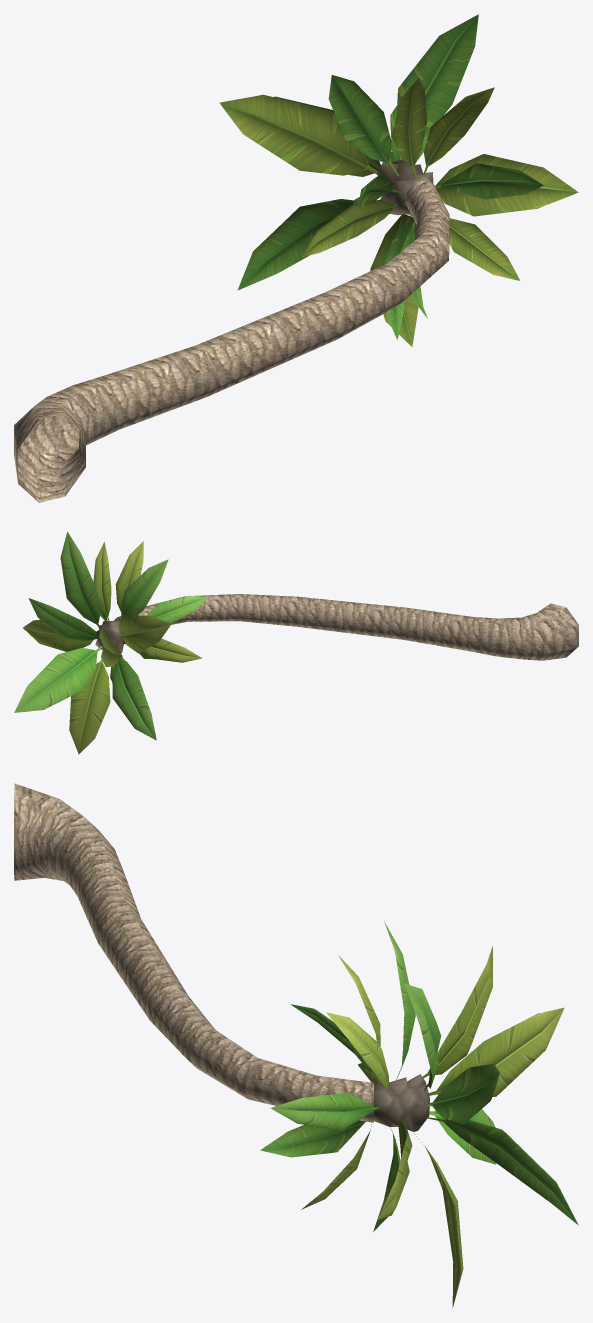
The model's file is Palmtree_Bend_B.fbx.
3 views of the same model, one above another, from view 1: azimuth 30°, elevation 25°; view 2: azimuth 150°, elevation 25°; view 3: azimuth 270°, elevation 25° (orthographic). The views are drawn at different scales.
Parts seen in each view (by area): view 1: Palmtree_Bend_B; view 2: Palmtree_Bend_B; view 3: Palmtree_Bend_B.
Part boxes in pixels (box(x1,y1,x2,y2)): Palmtree_Bend_B: box(14, 14, 578, 502); Palmtree_Bend_B: box(14, 532, 578, 754); Palmtree_Bend_B: box(14, 783, 578, 1307).
Bounding box in the file's own units: 17.07 × 7.51 × 11.11.
